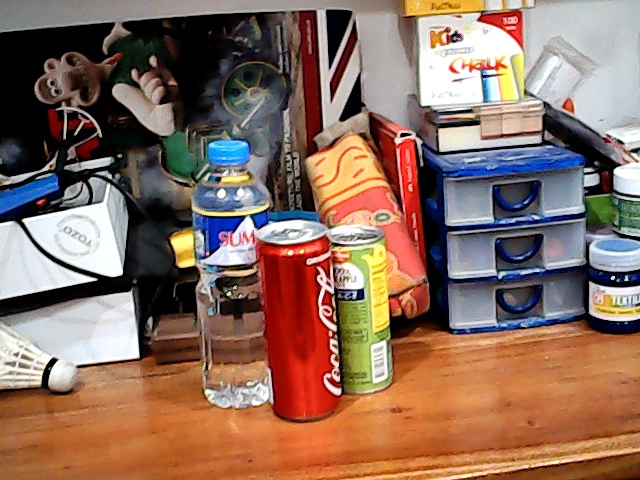Cola: (261, 213, 335, 416)
Pine Juice: (333, 228, 397, 398)
Summit Water: (186, 134, 274, 422)
